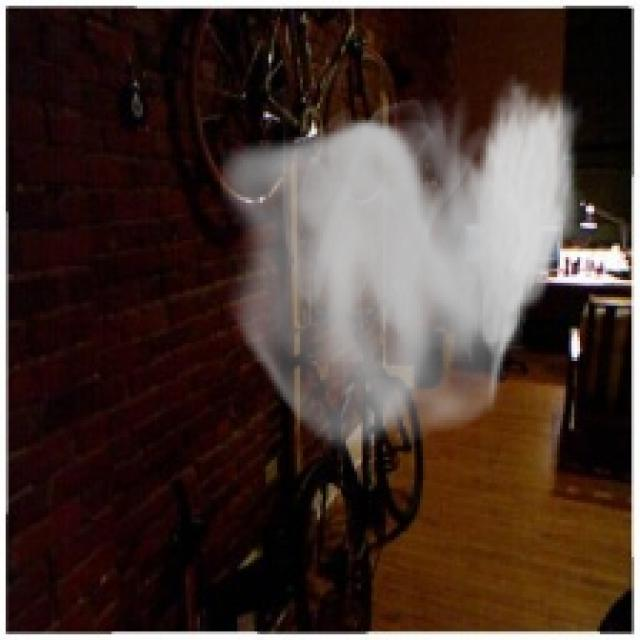smoke: (220, 74, 583, 460)
